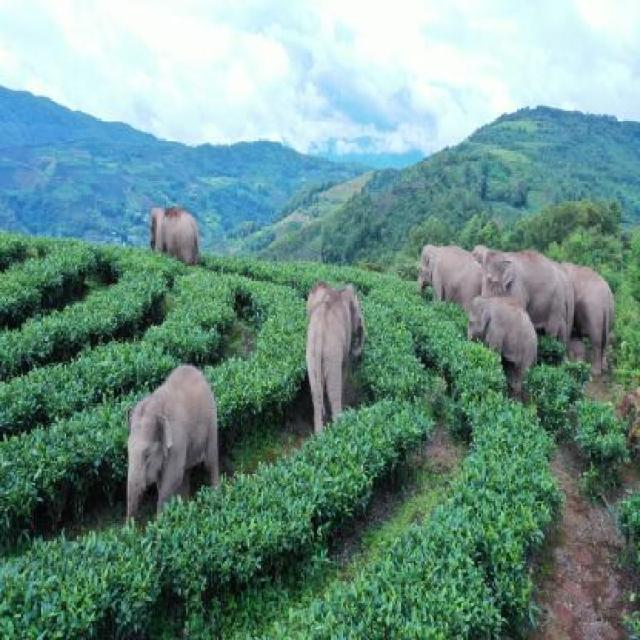elephant: (117, 360, 225, 522), (288, 268, 364, 428), (485, 244, 577, 345), (564, 254, 625, 398), (452, 310, 539, 398), (410, 225, 475, 313), (154, 188, 211, 270)
